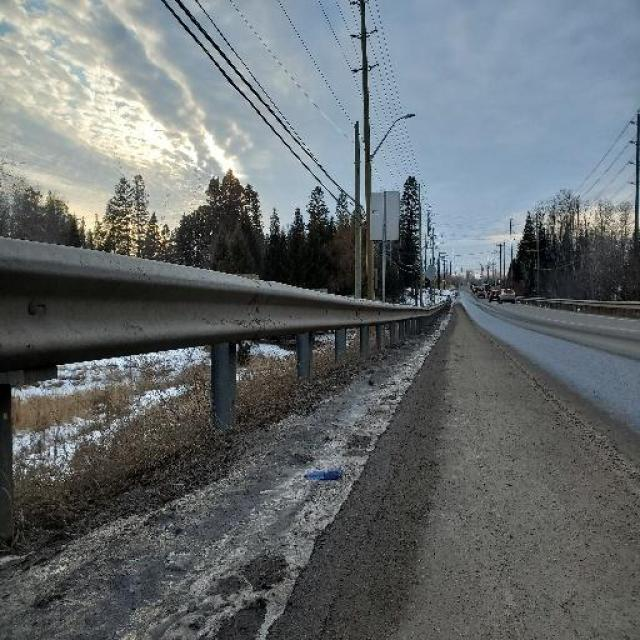Guard rail: (0, 233, 454, 554)
